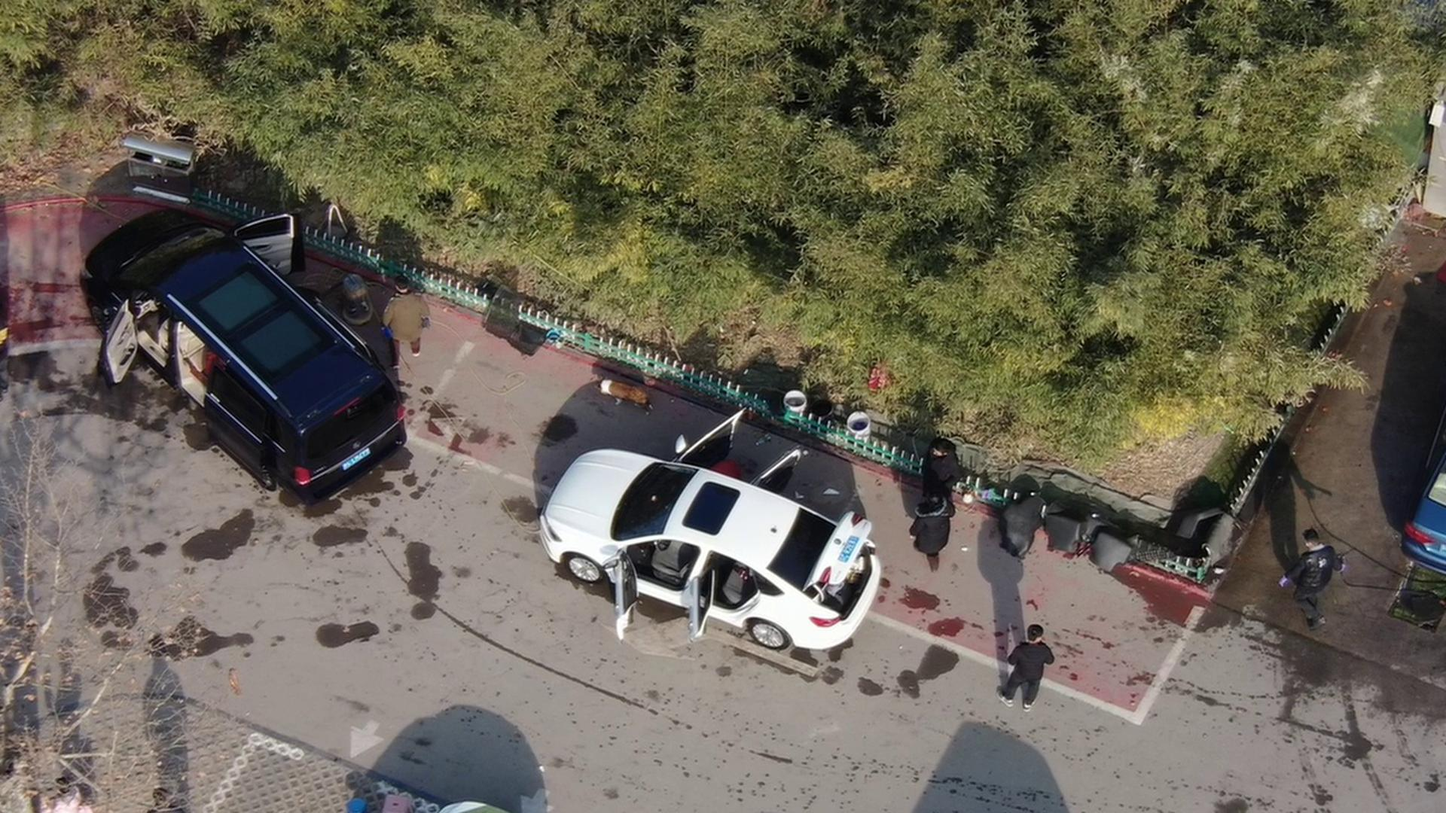human: (1274, 522, 1350, 625), (990, 615, 1059, 711), (378, 274, 429, 374), (908, 498, 953, 577), (1, 291, 25, 410), (924, 433, 961, 501), (140, 769, 197, 813)
